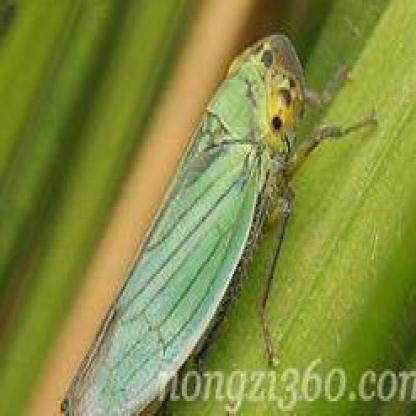Green-Leafhopper: (54, 31, 381, 416)
